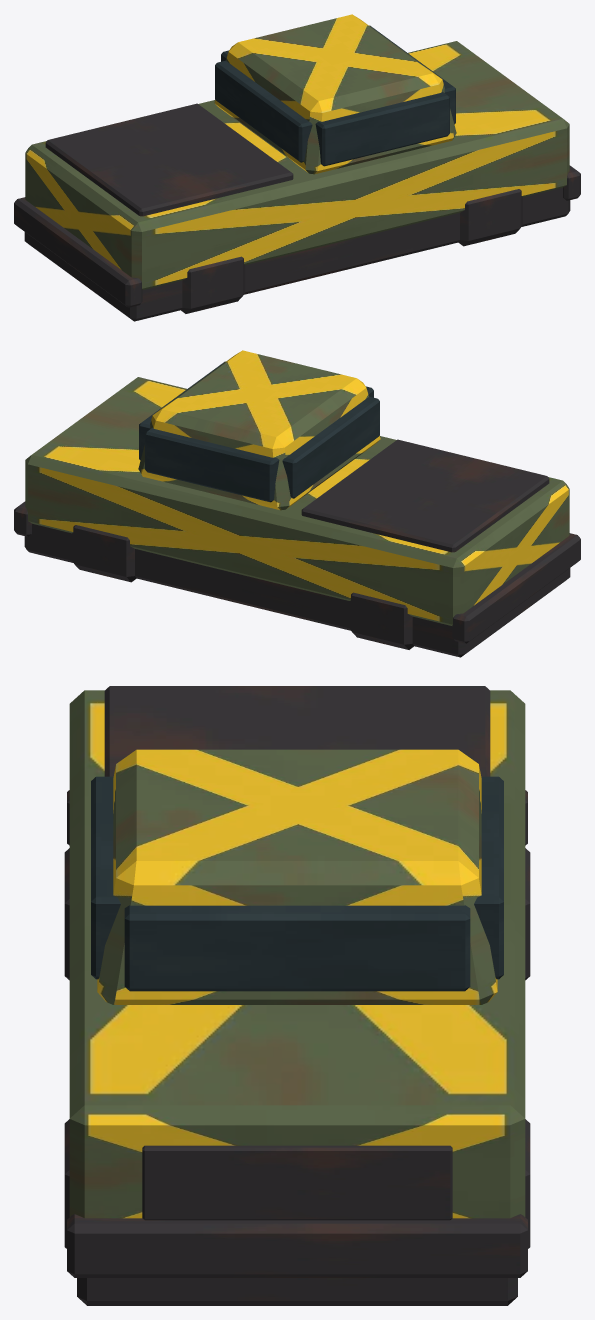
The model's file is car-weak-pickup.glb.
The picture shows the model from 3 angles, top to bottom: view 1: azimuth 30°, elevation 25°; view 2: azimuth 150°, elevation 25°; view 3: azimuth 270°, elevation 25°; orthographic projection. The views are drawn at different scales.
Parts seen in each view (by area): view 1: car_weak_pickup; view 2: car_weak_pickup; view 3: car_weak_pickup.
Part boxes in pixels (box(x1,y1,x2,y2)): car_weak_pickup: box(14, 14, 580, 321); car_weak_pickup: box(14, 350, 580, 657); car_weak_pickup: box(64, 686, 530, 1305).
Size of the model in its own units: 4.2 by 1.48 by 1.86.
1 material, 1 textured.
